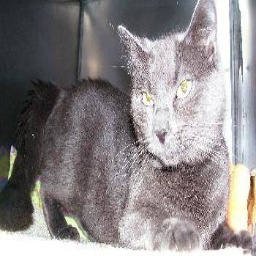cat: (3, 4, 249, 252)
